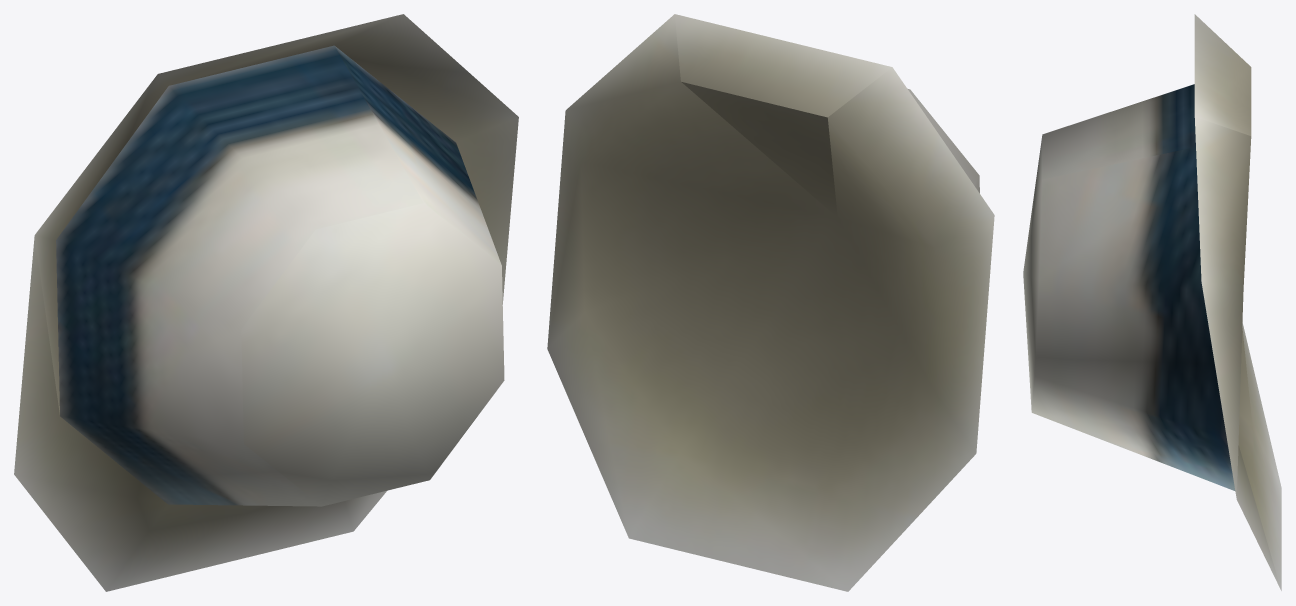
The model's file is tt_m_chr_avt_acc_hat_fedora.glb.
3 views of the same model, side by side, from view 1: azimuth 30°, elevation 25°; view 2: azimuth 150°, elevation 25°; view 3: azimuth 270°, elevation 25° (orthographic). The views are drawn at different scales.
Visible parts, largest first — view 1: tt_m_chr_avt_acc_hat_fedora; view 2: tt_m_chr_avt_acc_hat_fedora; view 3: tt_m_chr_avt_acc_hat_fedora.
Part boxes in pixels (x1=…): tt_m_chr_avt_acc_hat_fedora: x1=14, y1=14, x2=518, y2=591; tt_m_chr_avt_acc_hat_fedora: x1=547, y1=14, x2=994, y2=591; tt_m_chr_avt_acc_hat_fedora: x1=1023, y1=14, x2=1281, y2=590.
Size of the model in its own units: 3.64 by 3.99 by 1.97.
1 material, 1 textured.
